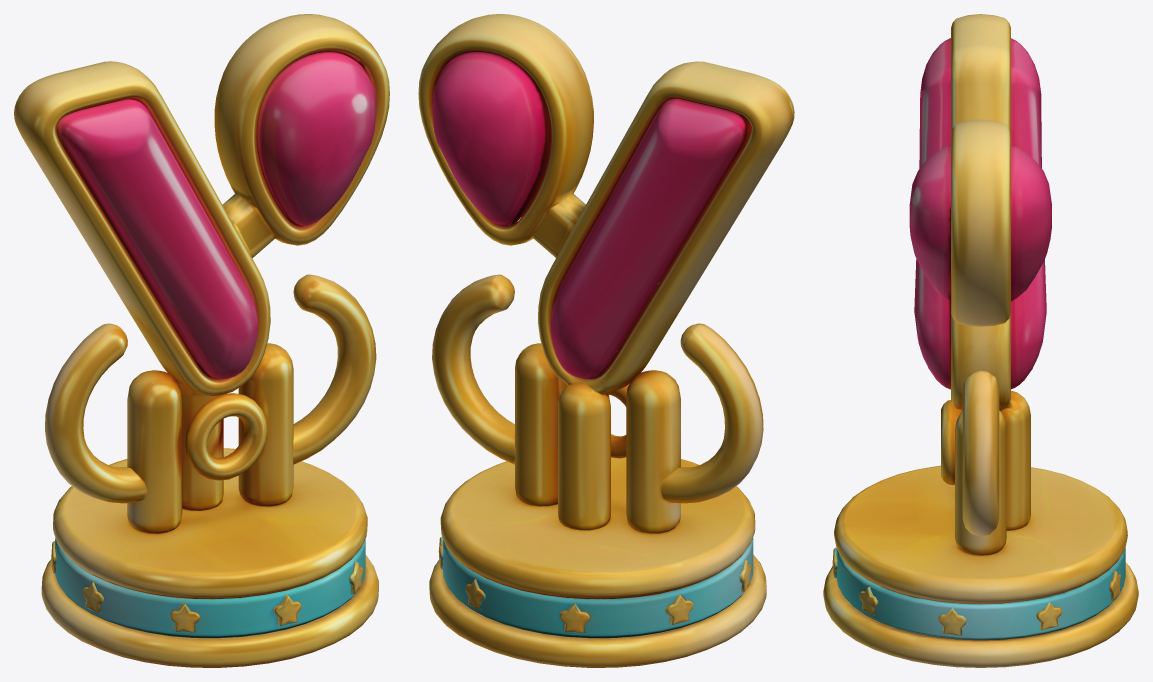
Rendered from TrophéPremier.glb.
3 views of the same model, side by side, from view 1: azimuth 30°, elevation 25°; view 2: azimuth 150°, elevation 25°; view 3: azimuth 270°, elevation 25° (orthographic). The views are drawn at different scales.
Parts seen in each view (by area): view 1: tripo_4e7a6291_e2d6_4420_845a_d0fe3a0e0f0f; view 2: tripo_4e7a6291_e2d6_4420_845a_d0fe3a0e0f0f; view 3: tripo_4e7a6291_e2d6_4420_845a_d0fe3a0e0f0f.
Boxes of the visible parts, x1,y1,x2,y2 form: tripo_4e7a6291_e2d6_4420_845a_d0fe3a0e0f0f: [14, 14, 389, 667]; tripo_4e7a6291_e2d6_4420_845a_d0fe3a0e0f0f: [418, 14, 794, 667]; tripo_4e7a6291_e2d6_4420_845a_d0fe3a0e0f0f: [823, 14, 1138, 667].
Size of the model in its own units: 0.6733 by 0.9995 by 0.5503.
Materials: 1 (1 with a texture image).
